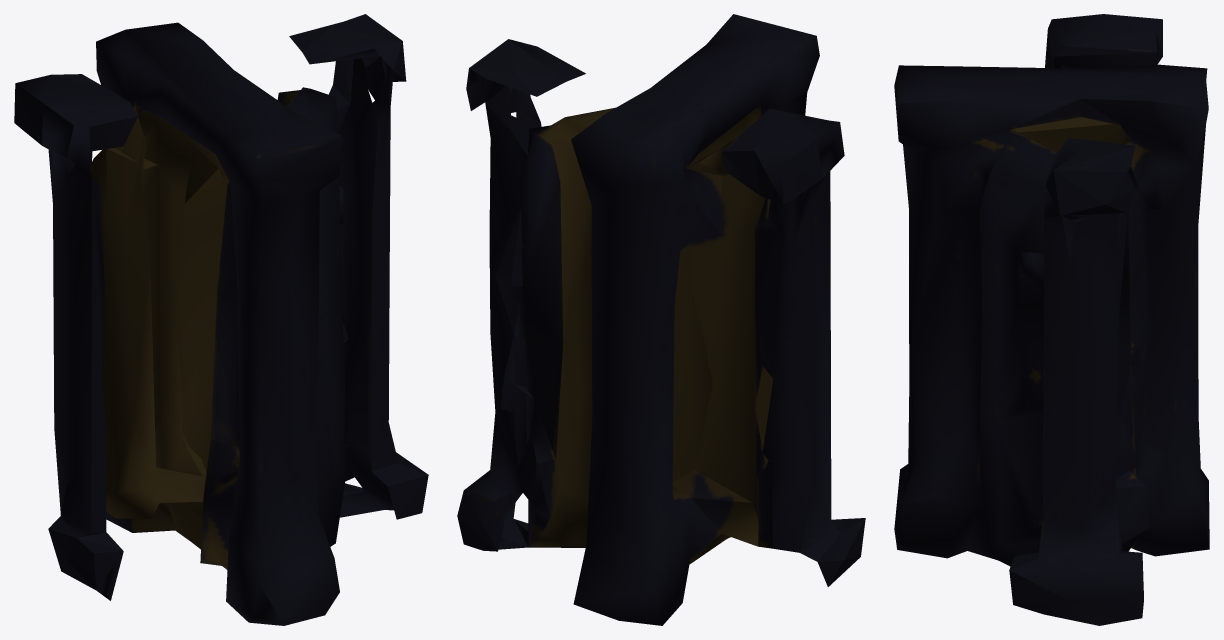
The model's file is vault-door-open.glb.
3 renders of one model, left to right at view 1: azimuth 30°, elevation 25°; view 2: azimuth 150°, elevation 25°; view 3: azimuth 270°, elevation 25°, orthographic. The views are drawn at different scales.
Visible parts, largest first — view 1: geometry_0.001; view 2: geometry_0.001; view 3: geometry_0.001.
Boxes of the visible parts, x1,y1,x2,y2 form: geometry_0.001: (14,14,428,625); geometry_0.001: (457,14,865,625); geometry_0.001: (894,14,1209,625).
Size of the model in its own units: 0.757 by 0.9991 by 0.6241.
1 material, 1 textured.
